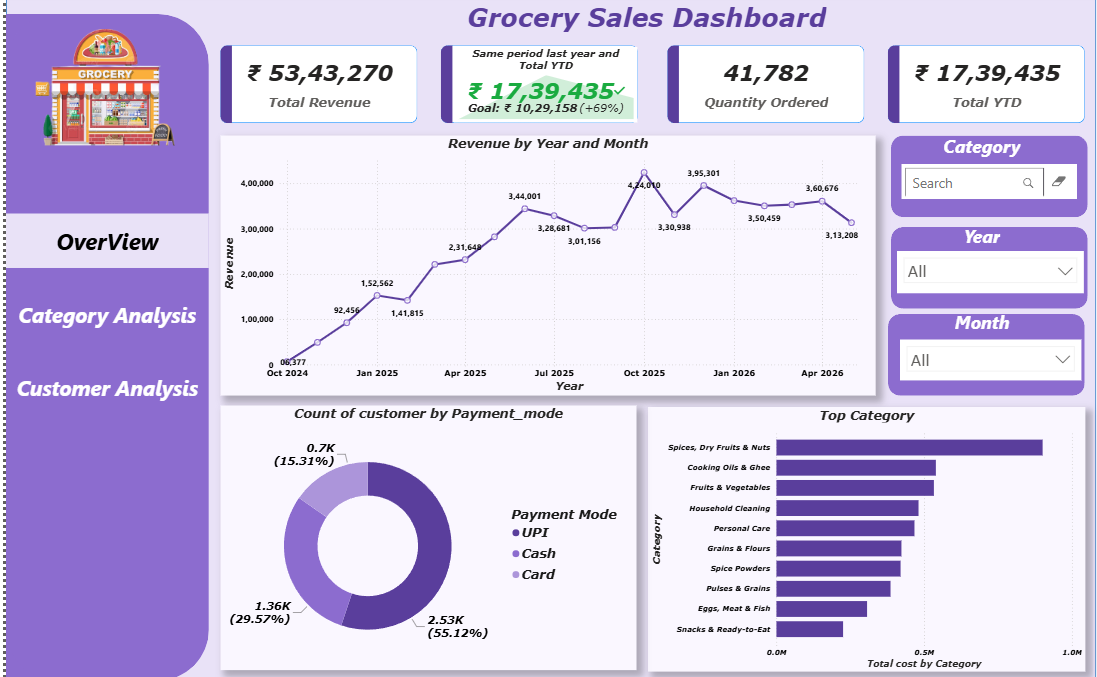

The page's visual inventory and layout, read from the dashboard file:
{"tool":"powerbi","page":{"name":"OverView","canvas":[1600,1000],"ordinal":0},"visuals":[{"type":"shape","box":[0,0,1599.9,1000.8],"z":0},{"type":"shape","box":[0,22.2,99.9,978.6],"z":1000},{"type":"shape","box":[0,22.5,297.5,977.5],"z":2000},{"type":"actionButton","box":[0,315.1,297.3,79.9],"z":3000},{"type":"cardVisual","fields":{"Data":["grocery_store customers.Total Revenue"]},"box":[297.3,51,324,148.7],"z":4000},{"type":"cardVisual","fields":{"Data":["grocery_store customers.Transactions"]},"box":[621.3,51,324,148.7],"z":5000},{"type":"cardVisual","fields":{"Data":["grocery_store customers.Total Quantity Ordered"]},"box":[951.9,51,324,148.7],"z":6000},{"type":"cardVisual","fields":{"Data":["grocery_store customers.Total YTD"]},"box":[1275.9,51,324,148.7],"z":7000},{"type":"lineChart","title":"Revenue by Year and Month","fields":{"Y":["Sum(grocery_store transaction_items.subtotal)"],"Category":["grocery_store transactions.transaction_datetime.Variation.Date Hierarchy.Year","grocery_store transactions.transaction_datetime.Variation.Date Hierarchy.Month"]},"box":[315.1,199.7,960.8,381.7],"z":8000},{"type":"barChart","title":"Top Category","fields":{"Category":["grocery_store products.category"],"Y":["Sum(grocery_store transaction_items.subtotal)"]},"box":[940.9,599.1,641.3,388.3],"z":9000},{"type":"donutChart","title":"Count of customer by Payment_mode","fields":{"Category":["grocery_store transactions.payment_mode"],"Y":["CountNonNull(grocery_store transactions.customer_id)"]},"box":[315.1,596.9,610.2,388.3],"z":10000},{"type":"shape","box":[1298.1,199.7,288.5,119.8],"z":11000},{"type":"shape","box":[1298.1,335.1,288.5,119.8],"z":12000},{"type":"textFilter25A4896A83E0487089E2B90C9AE57C8A","fields":{"field":["grocery_store products.category"]},"box":[1313.6,241.9,257.4,51],"z":13000},{"type":"slicer","fields":{"Values":["grocery_store transactions.transaction_datetime.Variation.Date Hierarchy.Year","grocery_store transactions.transaction_datetime.Variation.Date Hierarchy.Month"]},"box":[1306,370,274,62],"z":14000},{"type":"actionButton","box":[1262.6,186.4,337.3,55.5],"z":15000},{"type":"actionButton","box":[1262.6,319.5,337.3,55.5],"z":16000},{"type":"shape","box":[1293.7,461.5,288.5,119.8],"z":17000},{"type":"slicer","fields":{"Values":["grocery_store transactions.transaction_datetime.Variation.Date Hierarchy.Month"]},"box":[1310,500,266,60],"z":18000},{"type":"actionButton","box":[1262,444,338,56],"z":19000},{"type":"actionButton","box":[460,0,960,52],"z":20000},{"type":"actionButton","box":[0,421.6,297.3,79.9],"z":21000},{"type":"image","box":[17.8,44.4,255.2,170.9],"z":22000},{"type":"kpi","title":"Same period last year and Total YTD ","fields":{"Goal":["grocery_store transactions.Same last year"],"Indicator":["grocery_store customers.Total YTD"],"TrendLine":["grocery_store transactions.transaction_datetime.Variation.Date Hierarchy.Year"]},"box":[657.1,70,267.9,110.7],"z":23000},{"type":"actionButton","box":[0,530,297.5,80],"z":24000}]}

Visuals, with their boxes in screenshot pixels (x1, y1, x2, y2), scaled from the page's 1600x1000 canvas onto the 1097x677 screenshot:
shape: box(0, 0, 1096, 676)
shape: box(0, 15, 68, 676)
shape: box(0, 15, 204, 676)
actionButton: box(0, 213, 204, 267)
cardVisual - grocery_store customers.Total Revenue: box(204, 35, 426, 135)
cardVisual - grocery_store customers.Transactions: box(426, 35, 648, 135)
cardVisual - grocery_store customers.Total Quantity Ordered: box(653, 35, 875, 135)
cardVisual - grocery_store customers.Total YTD: box(875, 35, 1096, 135)
"Revenue by Year and Month" lineChart: box(216, 135, 875, 394)
"Top Category" barChart: box(645, 406, 1085, 668)
"Count of customer by Payment_mode" donutChart: box(216, 404, 634, 667)
shape: box(890, 135, 1088, 216)
shape: box(890, 227, 1088, 308)
textFilter25A4896A83E0487089E2B90C9AE57C8A - grocery_store products.category: box(901, 164, 1077, 198)
slicer - grocery_store transactions.transaction_datetime.Variation.Date Hierarchy.Year x grocery_store transactions.transaction_datetime.Variation.Date Hierarchy.Month: box(895, 250, 1083, 292)
actionButton: box(866, 126, 1096, 164)
actionButton: box(866, 216, 1096, 254)
shape: box(887, 312, 1085, 394)
slicer - grocery_store transactions.transaction_datetime.Variation.Date Hierarchy.Month: box(898, 338, 1081, 379)
actionButton: box(865, 301, 1096, 338)
actionButton: box(315, 0, 974, 35)
actionButton: box(0, 285, 204, 340)
image: box(12, 30, 187, 146)
"Same period last year and Total YTD " kpi: box(451, 47, 634, 122)
actionButton: box(0, 359, 204, 413)
